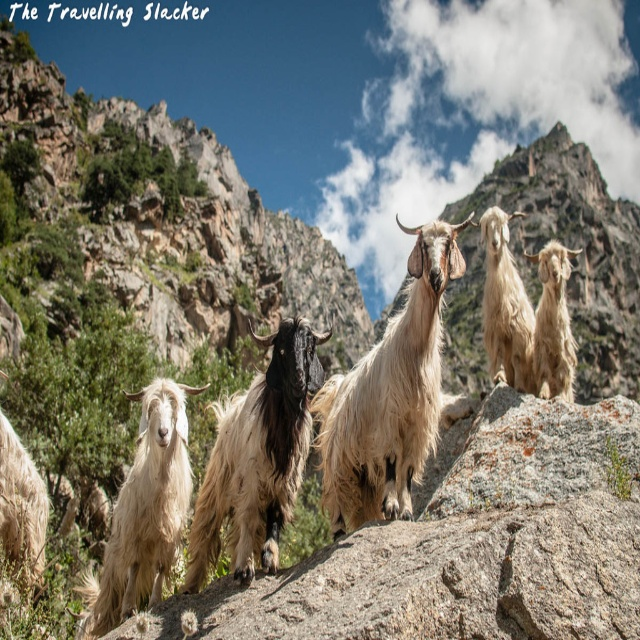Goat: (0, 206, 583, 640)
